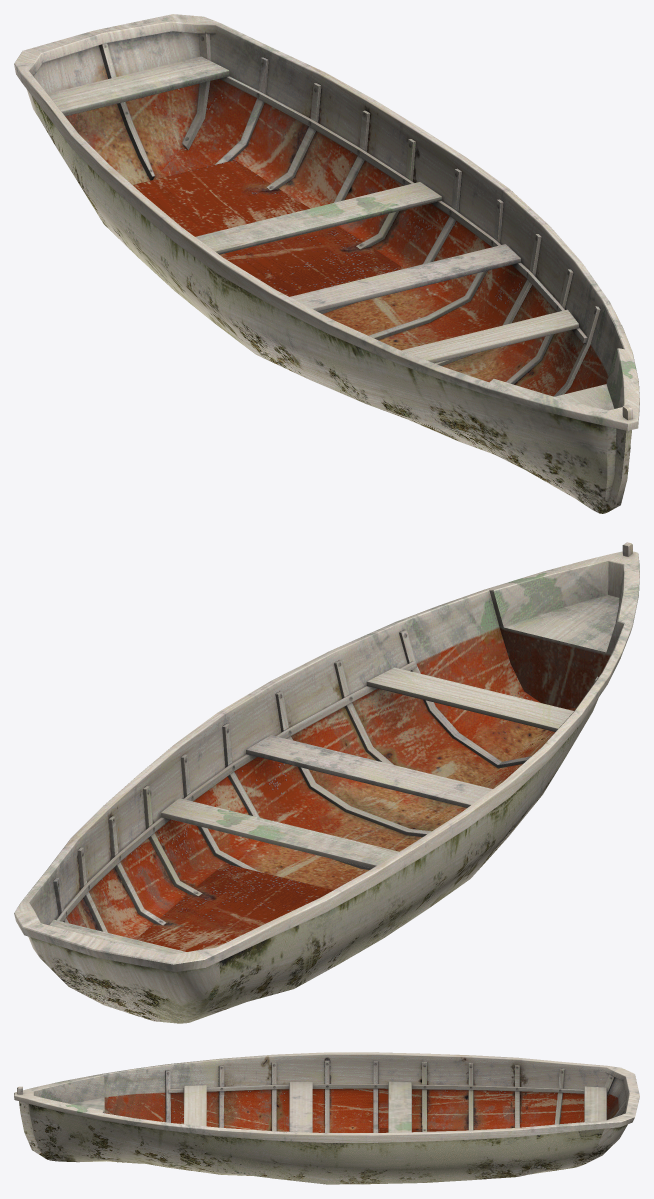
The model's file is wooden_boat.glb.
The picture shows the model from 3 angles, top to bottom: view 1: azimuth 30°, elevation 25°; view 2: azimuth 150°, elevation 25°; view 3: azimuth 270°, elevation 25°; orthographic projection. The views are drawn at different scales.
Visible parts, largest first — view 1: Object_2; view 2: Object_2; view 3: Object_2.
Boxes of the visible parts, x1,y1,x2,y2 form: Object_2: (14,14,639,513); Object_2: (14,542,639,1023); Object_2: (14,1052,639,1184).
Size of the model in its own units: 106 by 46.03 by 339.
Materials: 1 (1 with a texture image).
